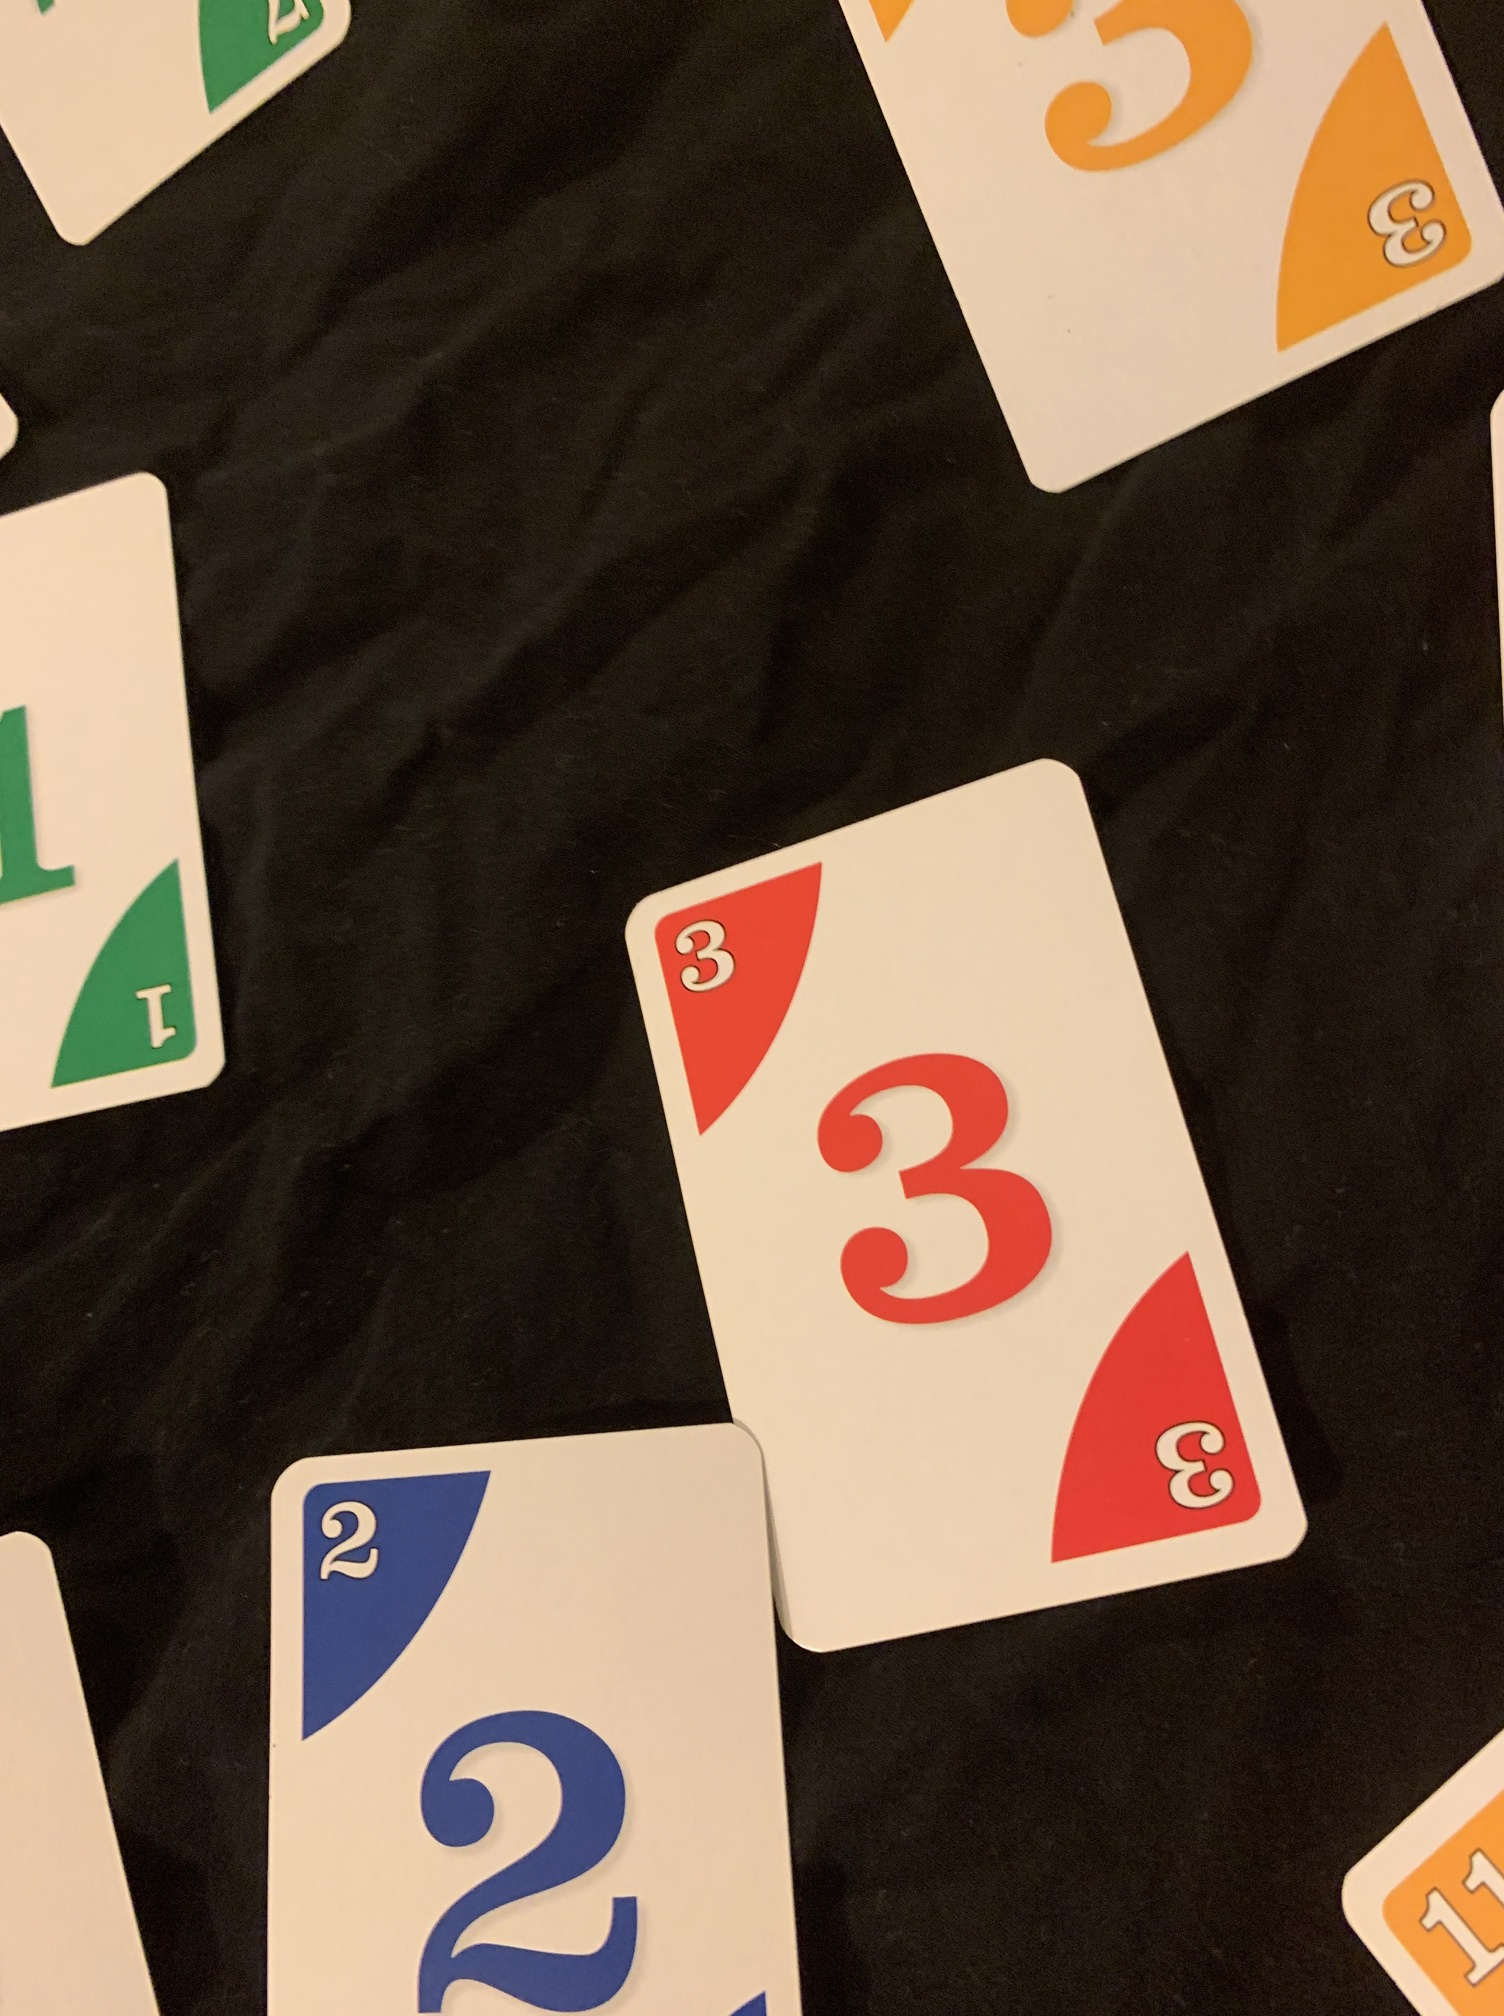three: (613, 743, 1314, 1662)
two: (250, 1397, 818, 2016)
